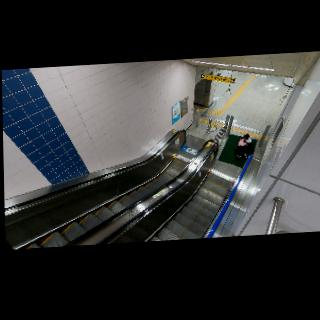anomaly: (234, 131, 255, 163)
